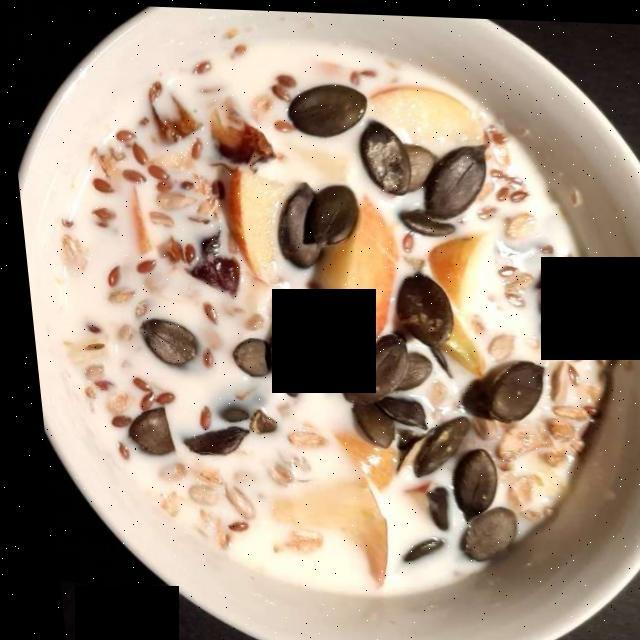linseeds: (62, 56, 187, 390)
milk: (211, 521, 453, 597)
muesli: (68, 41, 303, 421)
pumpkin-seeds: (222, 95, 540, 577)
sunflower-seeds: (120, 64, 530, 575)
